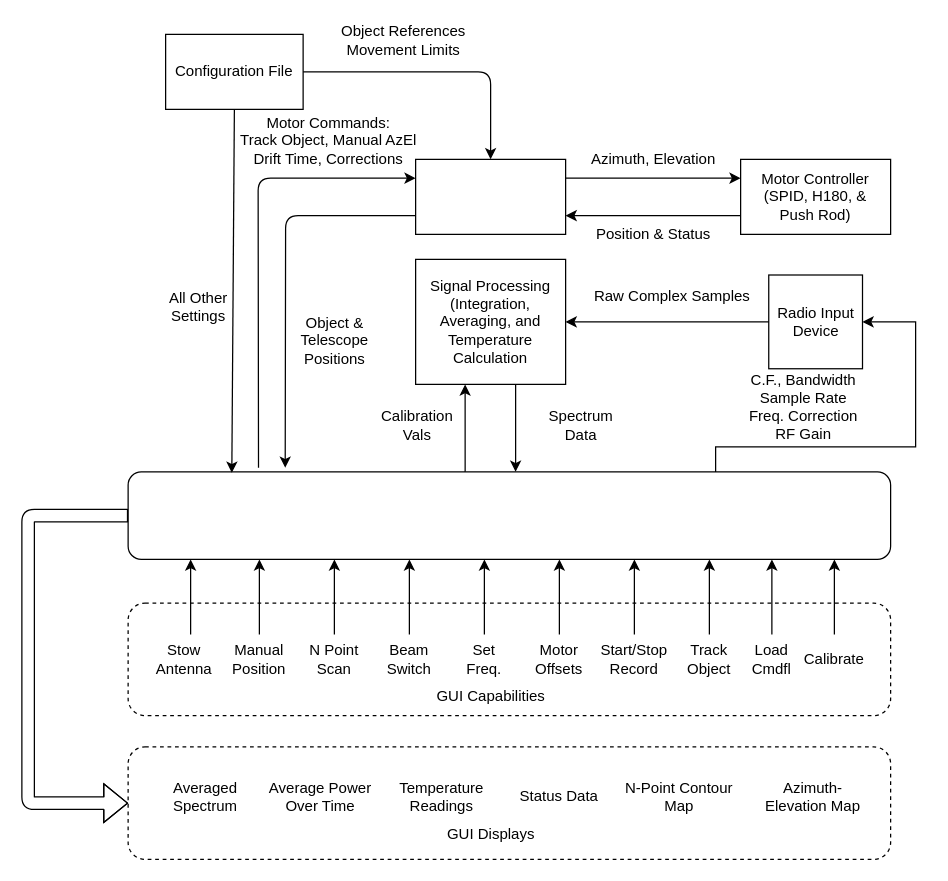
Some shapes in this 948 by 881 pixel diagram are drawn without their labels. Here are the shapes that lost their labels. From the top down, the box of each, then its label:
(414, 158, 566, 234): Ephemeris Calc.& Motor Adjustments
(127, 471, 891, 559): Small Radio Telescope UI
